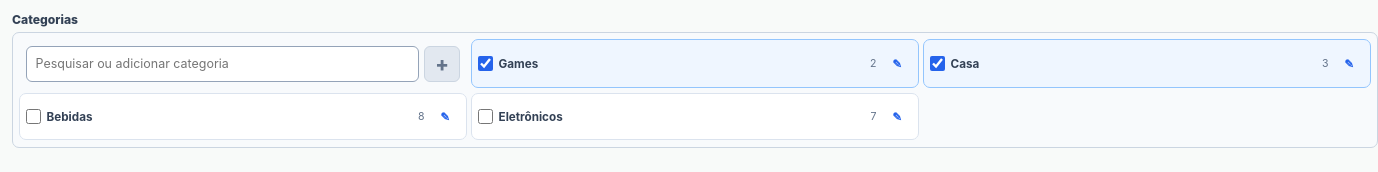
Test: PromotionCategorySelectorComponent › disables repeated rename actions while loading and respects the disabled input
The image size is (1378, 172).
Step 1. Click the button named "Editar categoria Casa" → (1349, 64), box [1334, 45, 1364, 82]
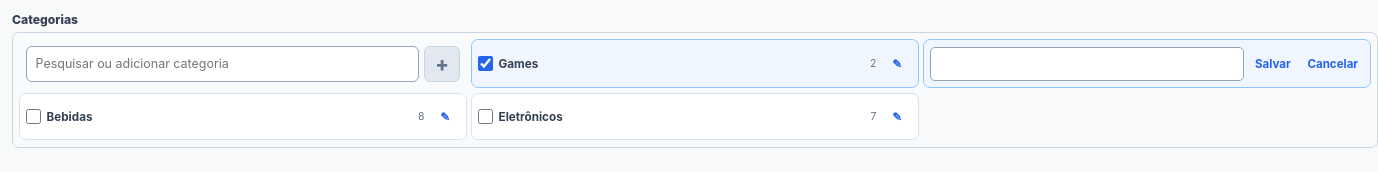
Step 2. Type "Lar" into the field named "Novo nome da categoria" → (1087, 64), box [930, 47, 1244, 81]
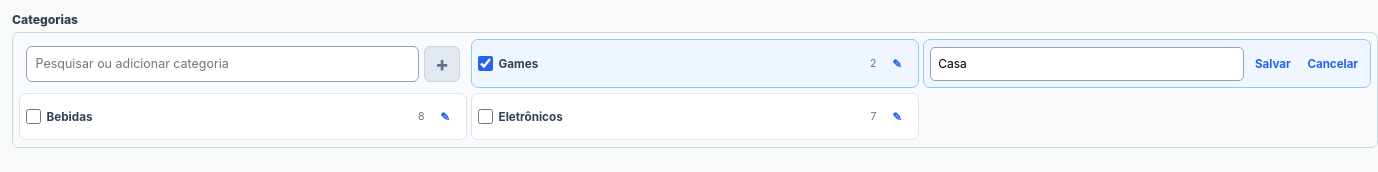
Step 3. Click the button with aria-label "Salvar nome" → (1273, 64), box [1249, 49, 1297, 79]
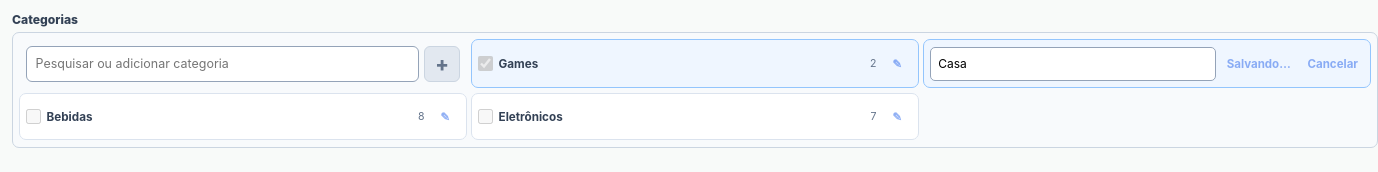
Expected: the button with aria-label "Salvar nome" is disabled, [1221, 49, 1297, 79]
